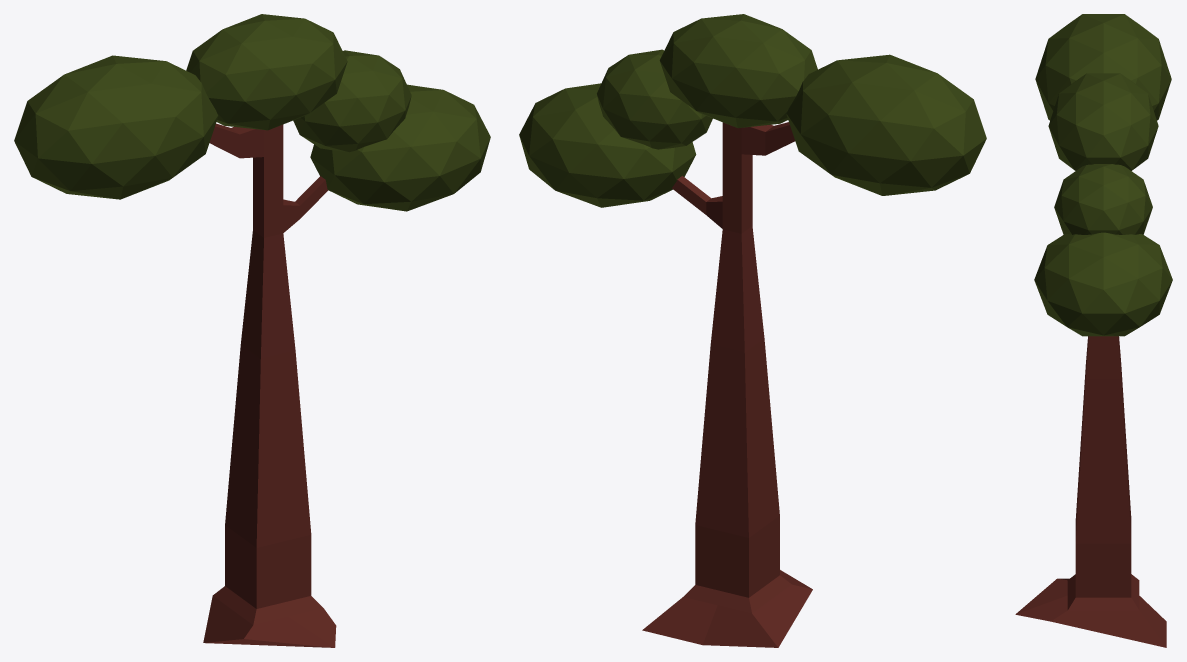
Rendered from arvorenova1.fbx.
3 renders of one model, left to right at view 1: azimuth 30°, elevation 25°; view 2: azimuth 150°, elevation 25°; view 3: azimuth 270°, elevation 25°, orthographic. The views are drawn at different scales.
Visible parts, largest first — view 1: Icosphere; view 2: Icosphere; view 3: Icosphere.
Part boxes in pixels (x1,y1,x2,y2): Icosphere: [14, 14, 490, 647]; Icosphere: [519, 14, 986, 647]; Icosphere: [1015, 14, 1172, 647].
Bounding box in the file's own units: 475 × 621 × 163.
